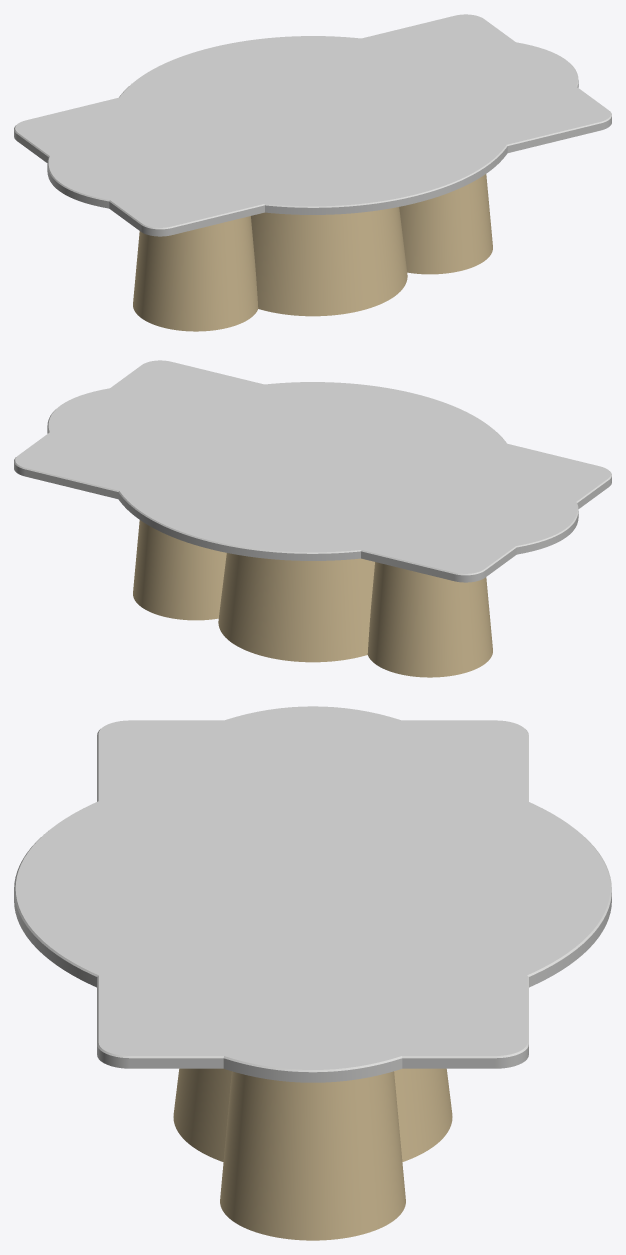
File: FioraTable.glb
The picture shows the model from 3 angles, top to bottom: view 1: azimuth 30°, elevation 25°; view 2: azimuth 150°, elevation 25°; view 3: azimuth 270°, elevation 25°; orthographic projection. The views are drawn at different scales.
Visible parts, largest first — view 1: Top_Round, Top_Rect, Top_Oval, Base_Twin, Base_Single; view 2: Top_Round, Top_Oval, Top_Rect, Base_Twin, Base_Single; view 3: Top_Round, Top_Oval, Top_Rect, Base_Twin, Base_Single.
Boxes of the visible parts, left/top/right/bottom form: Top_Round: left=111, top=36, right=513, bottom=214; Top_Rect: left=14, top=14, right=611, bottom=236; Top_Oval: left=47, top=37, right=578, bottom=208; Base_Twin: left=133, top=174, right=492, bottom=331; Base_Single: left=251, top=207, right=407, bottom=316; Top_Round: left=112, top=382, right=514, bottom=560; Top_Oval: left=47, top=383, right=578, bottom=554; Top_Rect: left=14, top=360, right=611, bottom=582; Base_Twin: left=133, top=520, right=492, bottom=677; Base_Single: left=218, top=553, right=374, bottom=662; Top_Round: left=14, top=762, right=611, bottom=1013; Top_Oval: left=82, top=706, right=543, bottom=1082; Top_Rect: left=97, top=720, right=528, bottom=1068; Base_Twin: left=220, top=1071, right=405, bottom=1240; Base_Single: left=173, top=1068, right=452, bottom=1161.
Bounding box in the file's own units: 1.3 × 0.38 × 0.9.
